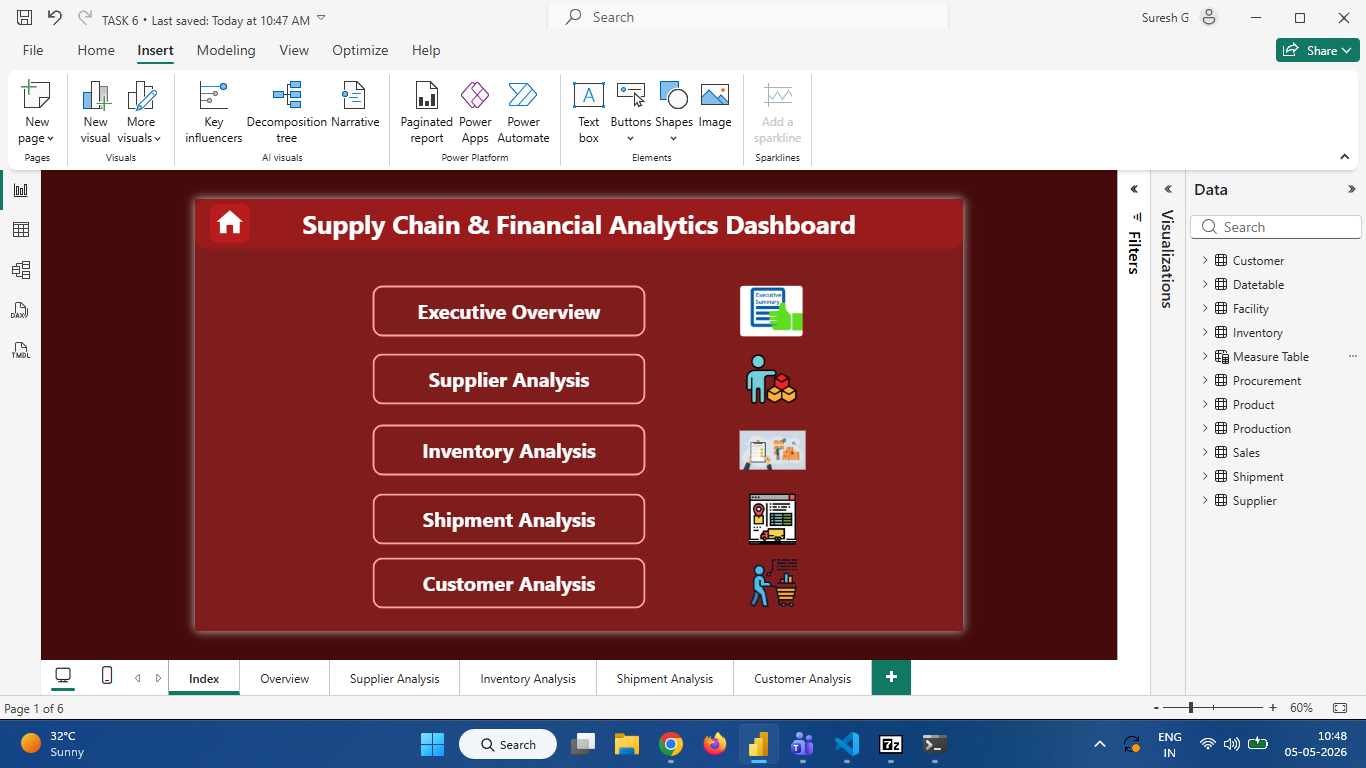

The page's visual inventory and layout, read from the dashboard file:
{"tool":"powerbi","page":{"name":"Index","canvas":[1280,720],"ordinal":0},"visuals":[{"type":"actionButton","box":[295,143.3,456.7,86.7],"z":0},{"type":"actionButton","box":[295,256.7,456.7,86.7],"z":1},{"type":"actionButton","box":[295,375,456.7,86.7],"z":2},{"type":"actionButton","box":[295,490,456.7,86.7],"z":3},{"type":"actionButton","box":[295,596.7,456.7,86.7],"z":4},{"type":"textbox","box":[0,0,1280,83.3],"z":5},{"type":"image","box":[906.7,143.3,108.3,86.7],"z":6},{"type":"image","box":[906.7,256.7,108.3,86.7],"z":7},{"type":"image","box":[906.7,375,111.7,86.7],"z":8},{"type":"image","box":[906.7,490,111.7,86.7],"z":9},{"type":"image","box":[910,596.7,108.3,86.7],"z":10},{"type":"image","box":[0,6.7,116.7,68.3],"z":11}]}

Visuals, with their boxes on the page's 1280x720 design canvas (x1, y1, x2, y2). These are canvas units, not pixel positions in the 1366x768 screenshot, which may show the page scaled, cropped or inside an application window:
actionButton: (x1=295, y1=143, x2=752, y2=230)
actionButton: (x1=295, y1=257, x2=752, y2=343)
actionButton: (x1=295, y1=375, x2=752, y2=462)
actionButton: (x1=295, y1=490, x2=752, y2=577)
actionButton: (x1=295, y1=597, x2=752, y2=683)
textbox: (x1=0, y1=0, x2=1280, y2=83)
image: (x1=907, y1=143, x2=1015, y2=230)
image: (x1=907, y1=257, x2=1015, y2=343)
image: (x1=907, y1=375, x2=1018, y2=462)
image: (x1=907, y1=490, x2=1018, y2=577)
image: (x1=910, y1=597, x2=1018, y2=683)
image: (x1=0, y1=7, x2=117, y2=75)
